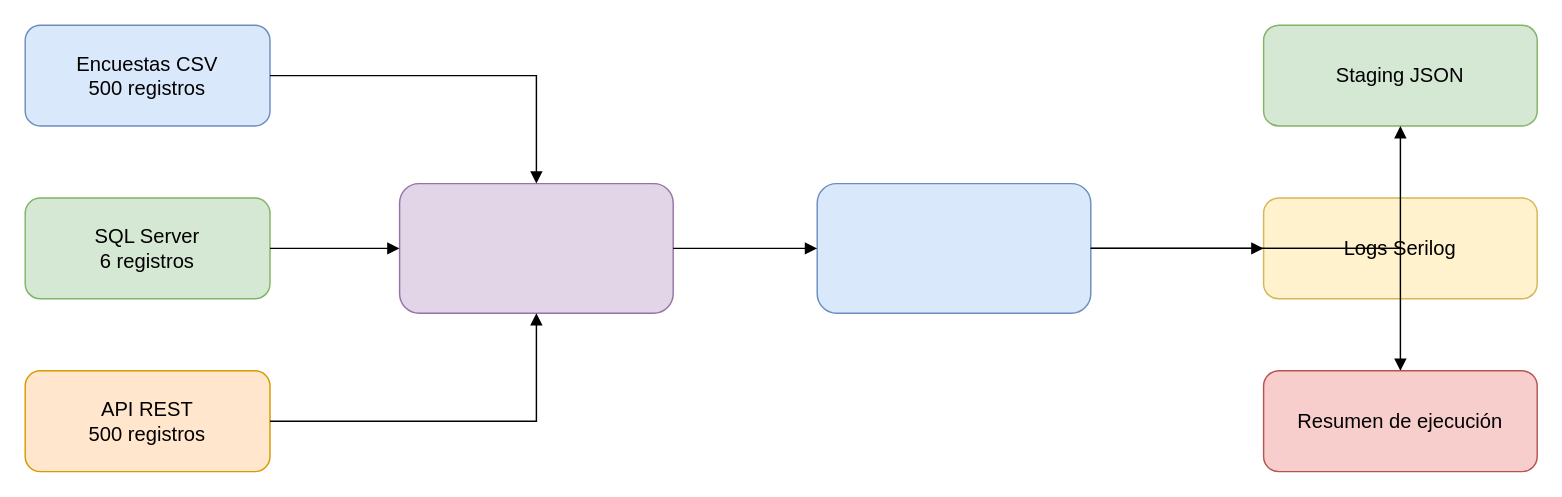
This 1562x497 diagram has some shape labels left out. Each missing label, with the centre of its shape:
Proceso de extracción Infrastructure: (x=535, y=247)
Worker Service .NET 8: (x=953, y=247)
